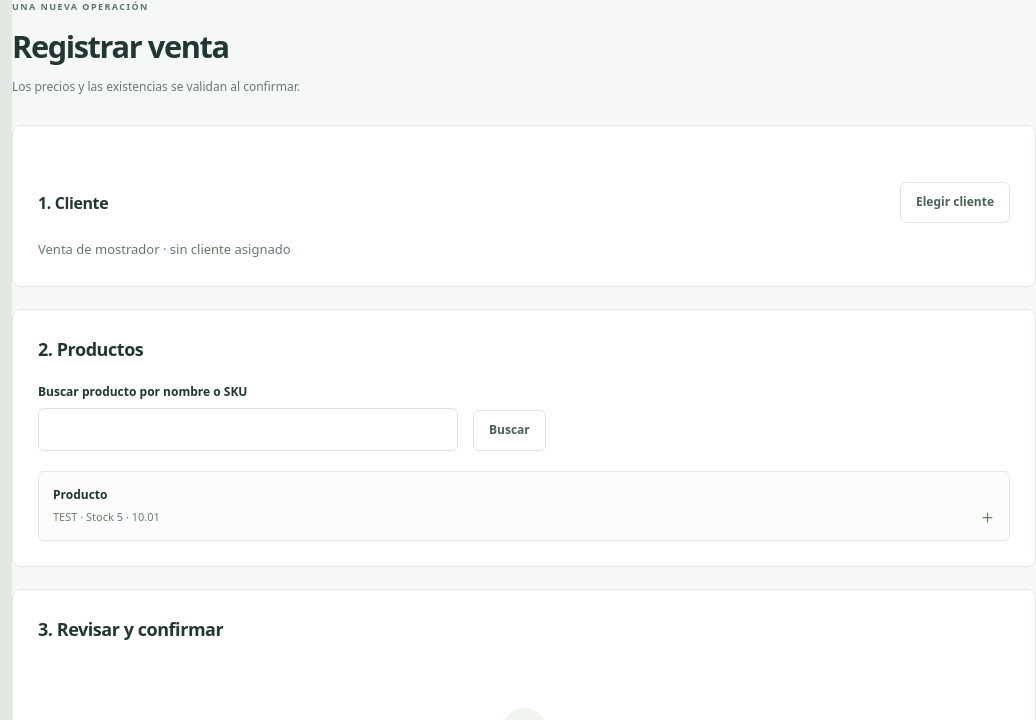
it: bloquea el reenvío de una venta cuyo resultado es incierto
The width and height of the screenshot is (1036, 720).
Step 1. Click the button "Producto TEST · Stock 5 · 10.01" → (80, 495), box 38,471 -> 1010,541
(page scrolled)
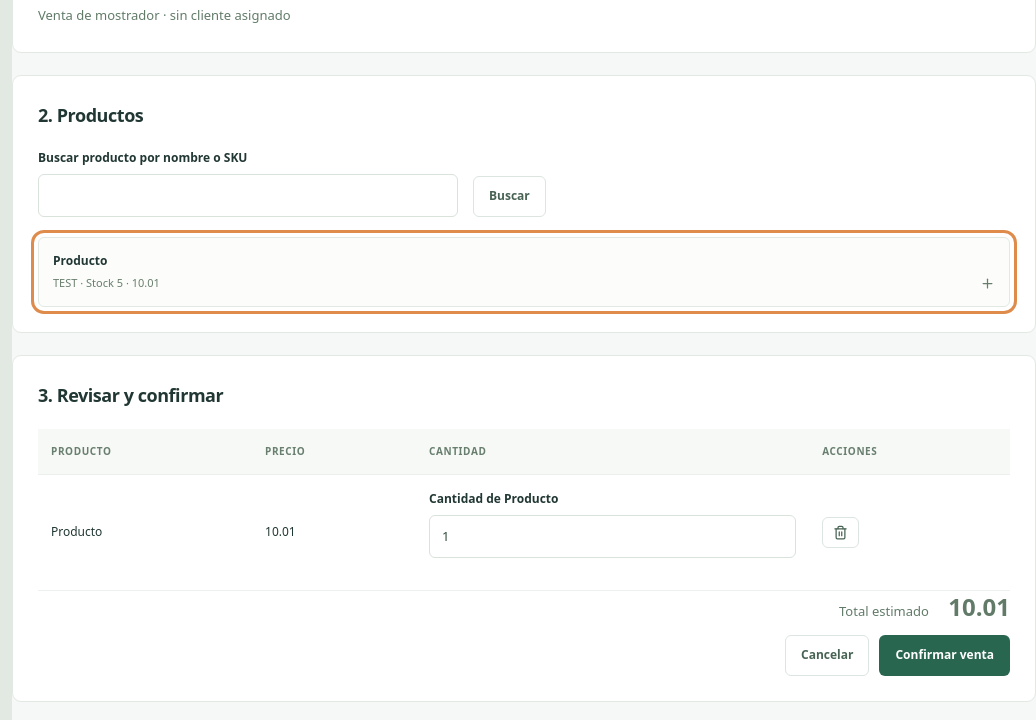
Step 2. Click the button "Confirmar venta" → (945, 656), box 879,635 -> 1010,676
(page scrolled)
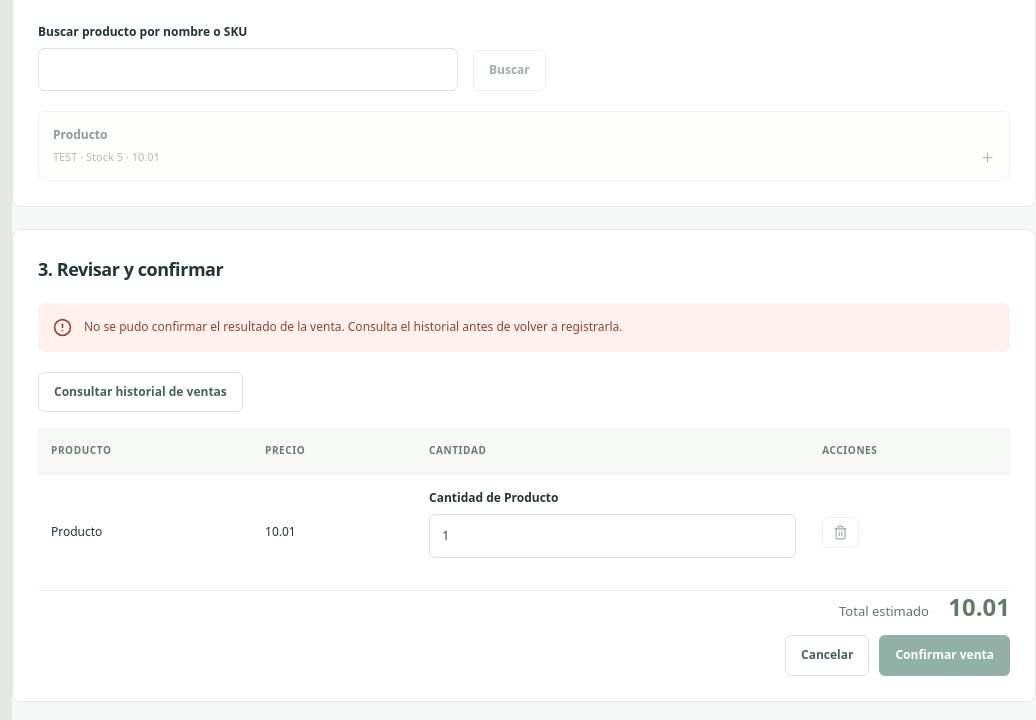
expect the message shows "Consulta el historial": met, box 84,318 -> 622,335
expect the button "Confirmar venta" is disabled: met, box 879,635 -> 1010,676
